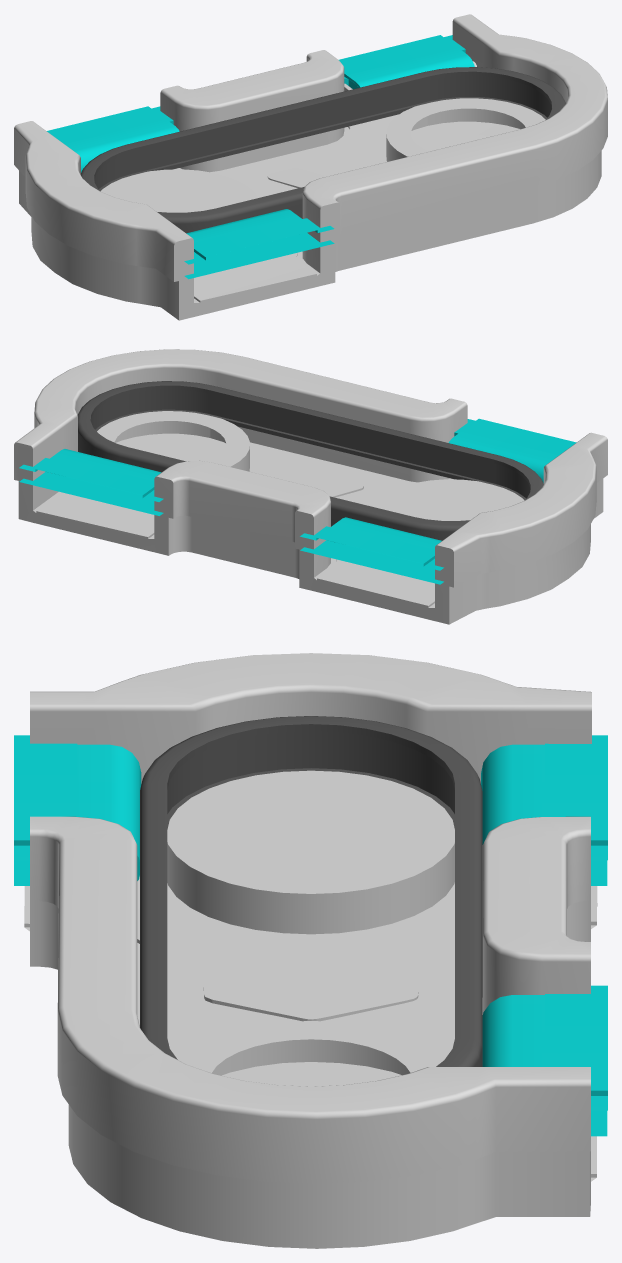
Rendered from CutterMirroredInternalVariant.gltf.
3 renders of one model, top to bottom at view 1: azimuth 30°, elevation 25°; view 2: azimuth 150°, elevation 25°; view 3: azimuth 270°, elevation 25°, orthographic. The views are drawn at different scales.
Parts seen in each view (by area): view 1: Cutter_Mirror_Main_LOD0, Cutter_Default_Ribbon_LOD0.001; view 2: Cutter_Mirror_Main_LOD0, Cutter_Default_Ribbon_LOD0.001; view 3: Cutter_Mirror_Main_LOD0, Cutter_Default_Ribbon_LOD0.001.
Boxes of the visible parts, x1,y1,x2,y2 form: Cutter_Mirror_Main_LOD0: (14,14,607,320); Cutter_Default_Ribbon_LOD0.001: (80,67,565,233); Cutter_Mirror_Main_LOD0: (14,349,607,624); Cutter_Default_Ribbon_LOD0.001: (77,381,543,540); Cutter_Mirror_Main_LOD0: (14,653,607,1248); Cutter_Default_Ribbon_LOD0.001: (140,716,482,1066).
Size of the model in its own units: 1.85 by 0.26 by 1.
